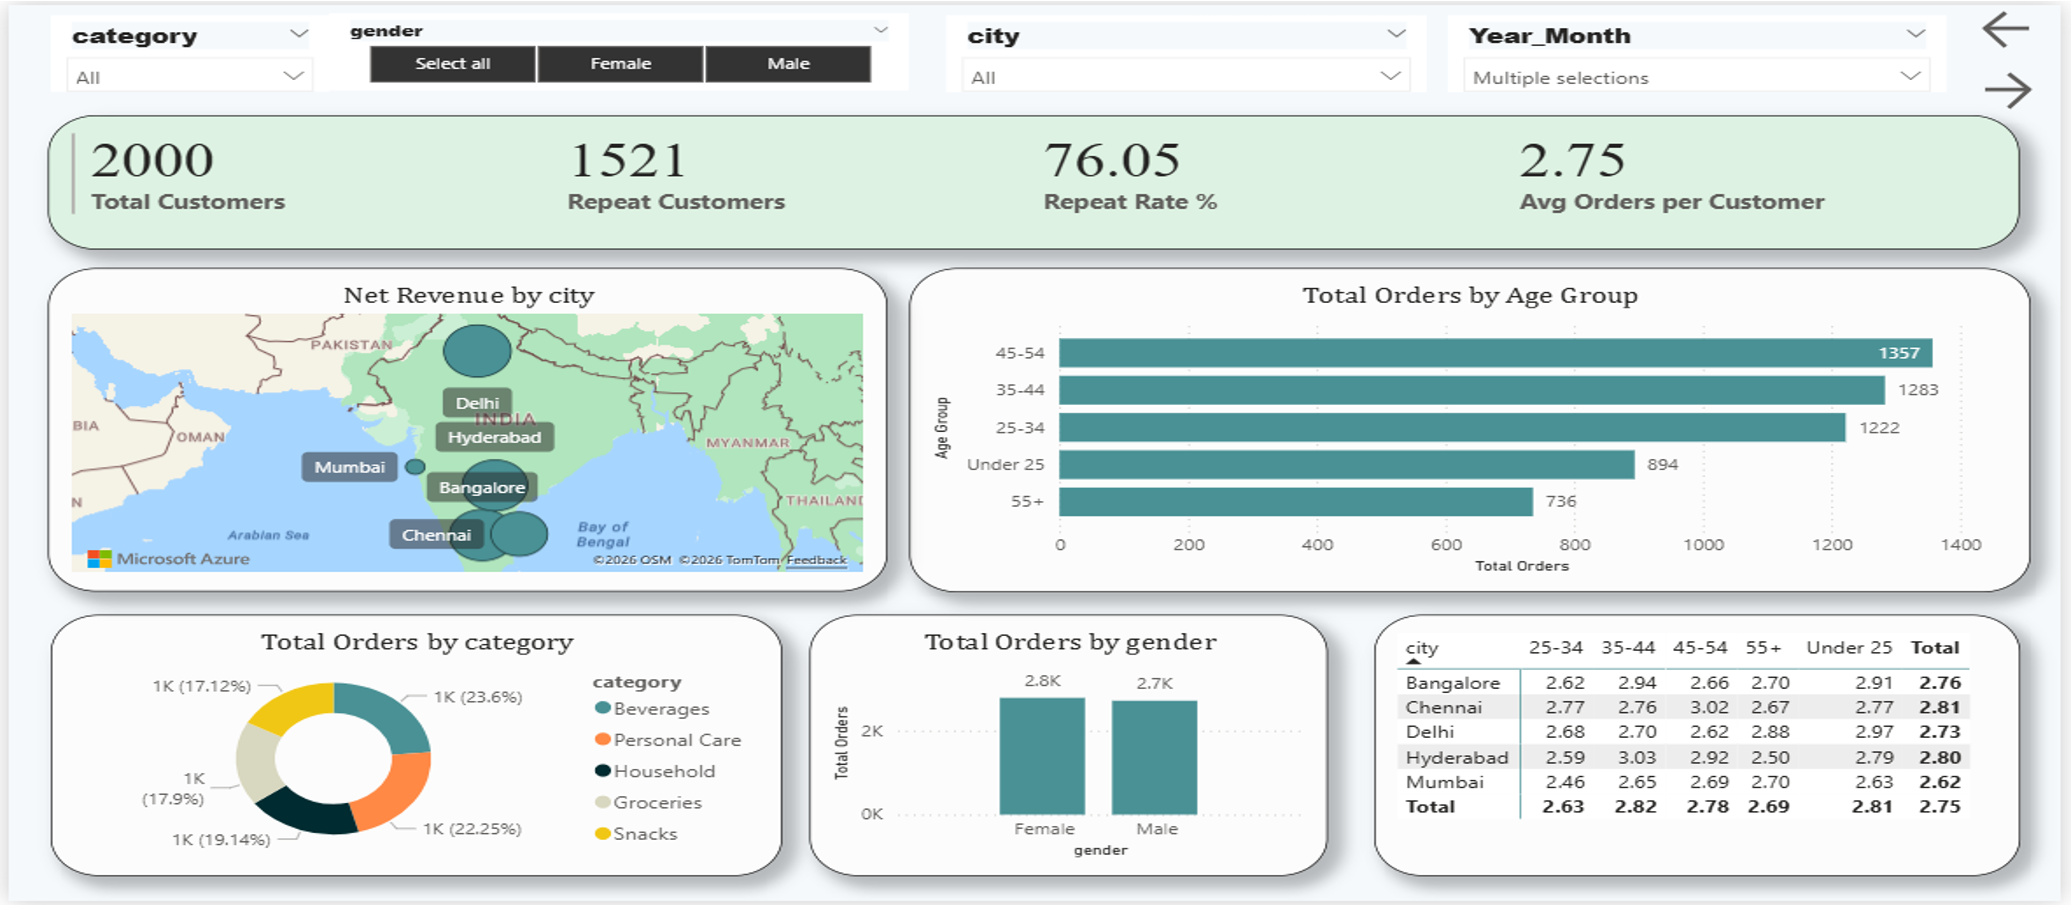

Layout of this report page (visuals, bound fields, positions):
{"tool":"powerbi","page":{"name":"Customer Intelligence","canvas":[1280,720],"ordinal":2},"visuals":[{"type":"slicer","fields":{"Values":["Date_Table.YearMonth"]},"box":[898.4,8.2,311.5,62.3],"z":0},{"type":"slicer","fields":{"Values":["customers.city"]},"box":[585.2,8.2,300,62.3],"z":1000},{"type":"slicer","fields":{"Values":["customers.gender"]},"box":[200,6.6,362.3,62.3],"z":2000},{"type":"multiRowCard","fields":{"Values":["Measure.Total Customers","Measure.Repeat Customers","Measure.Repeat Rate %","Measure.Avg Orders per Customer"]},"box":[24.2,88.7,1230.6,108.1],"z":3000},{"type":"slicer","fields":{"Values":["products.category"]},"box":[25.8,8.1,174.2,61.3],"z":4000},{"type":"donutChart","fields":{"Category":["products.category"],"Y":["Measure.Total Orders"]},"box":[26.7,490,456.7,210],"z":5000},{"type":"clusteredColumnChart","fields":{"Category":["customers.gender"],"Y":["Measure.Total Orders"]},"box":[500,490,323.3,210],"z":6000},{"type":"clusteredBarChart","fields":{"Category":["customers.Age Group"],"Y":["Measure.Total Orders"]},"box":[562.3,211.5,700,260.7],"z":7000},{"type":"azureMap","fields":{"Category":["customers.city"],"Size":["Measure.Net Revenue"]},"box":[24,212,524,260],"z":8000},{"type":"pivotTable","fields":{"Rows":["customers.city"],"Columns":["customers.Age Group"],"Values":["Measure.Avg Orders per Customer"]},"box":[851.7,490,403.3,210],"z":9000},{"type":"actionButton","box":[1227.9,0,50.8,39.3],"z":10000},{"type":"actionButton","box":[1227.9,49.2,52.5,39.3],"z":11000}]}

Visuals, with their boxes on the page's 1280x720 design canvas (x1, y1, x2, y2). These are canvas units, not pixel positions in the 2072x906 screenshot, which may show the page scaled, cropped or inside an application window:
slicer - Date_Table.YearMonth: pyautogui.locateOnScreen(898, 8, 1210, 70)
slicer - customers.city: pyautogui.locateOnScreen(585, 8, 885, 70)
slicer - customers.gender: pyautogui.locateOnScreen(200, 7, 562, 69)
multiRowCard - Measure.Total Customers x Measure.Repeat Customers: pyautogui.locateOnScreen(24, 89, 1255, 197)
slicer - products.category: pyautogui.locateOnScreen(26, 8, 200, 69)
donutChart - products.category x Measure.Total Orders: pyautogui.locateOnScreen(27, 490, 483, 700)
clusteredColumnChart - customers.gender x Measure.Total Orders: pyautogui.locateOnScreen(500, 490, 823, 700)
clusteredBarChart - customers.Age Group x Measure.Total Orders: pyautogui.locateOnScreen(562, 212, 1262, 472)
azureMap - customers.city x Measure.Net Revenue: pyautogui.locateOnScreen(24, 212, 548, 472)
pivotTable - customers.city x customers.Age Group: pyautogui.locateOnScreen(852, 490, 1255, 700)
actionButton: pyautogui.locateOnScreen(1228, 0, 1279, 39)
actionButton: pyautogui.locateOnScreen(1228, 49, 1280, 88)
